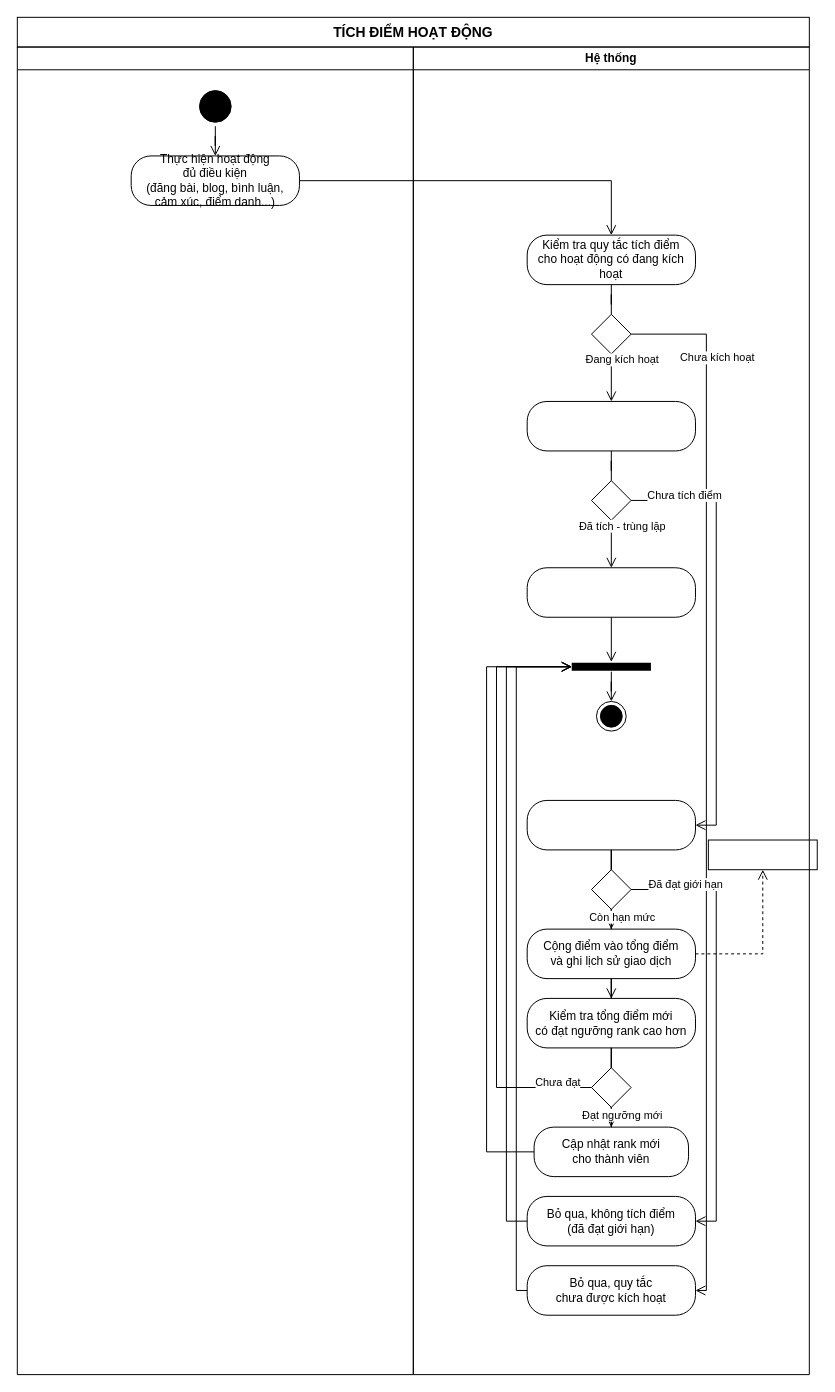
The diagram is 835 pixels wide and 1392 high, and some of its shapes have lost their labels. Each missing label, with the box of its shape:
Bỏ qua, không tích điểm (trùng lặp): (526, 567, 695, 617)
Kiểm tra giới hạn tích điểm ngày/tuần: (526, 799, 695, 850)
Kiểm tra hoạt động đã được tích điểm trước đó: (526, 400, 695, 451)
PointTransaction: (707, 839, 817, 870)
Thành viên: (16, 46, 413, 1375)
